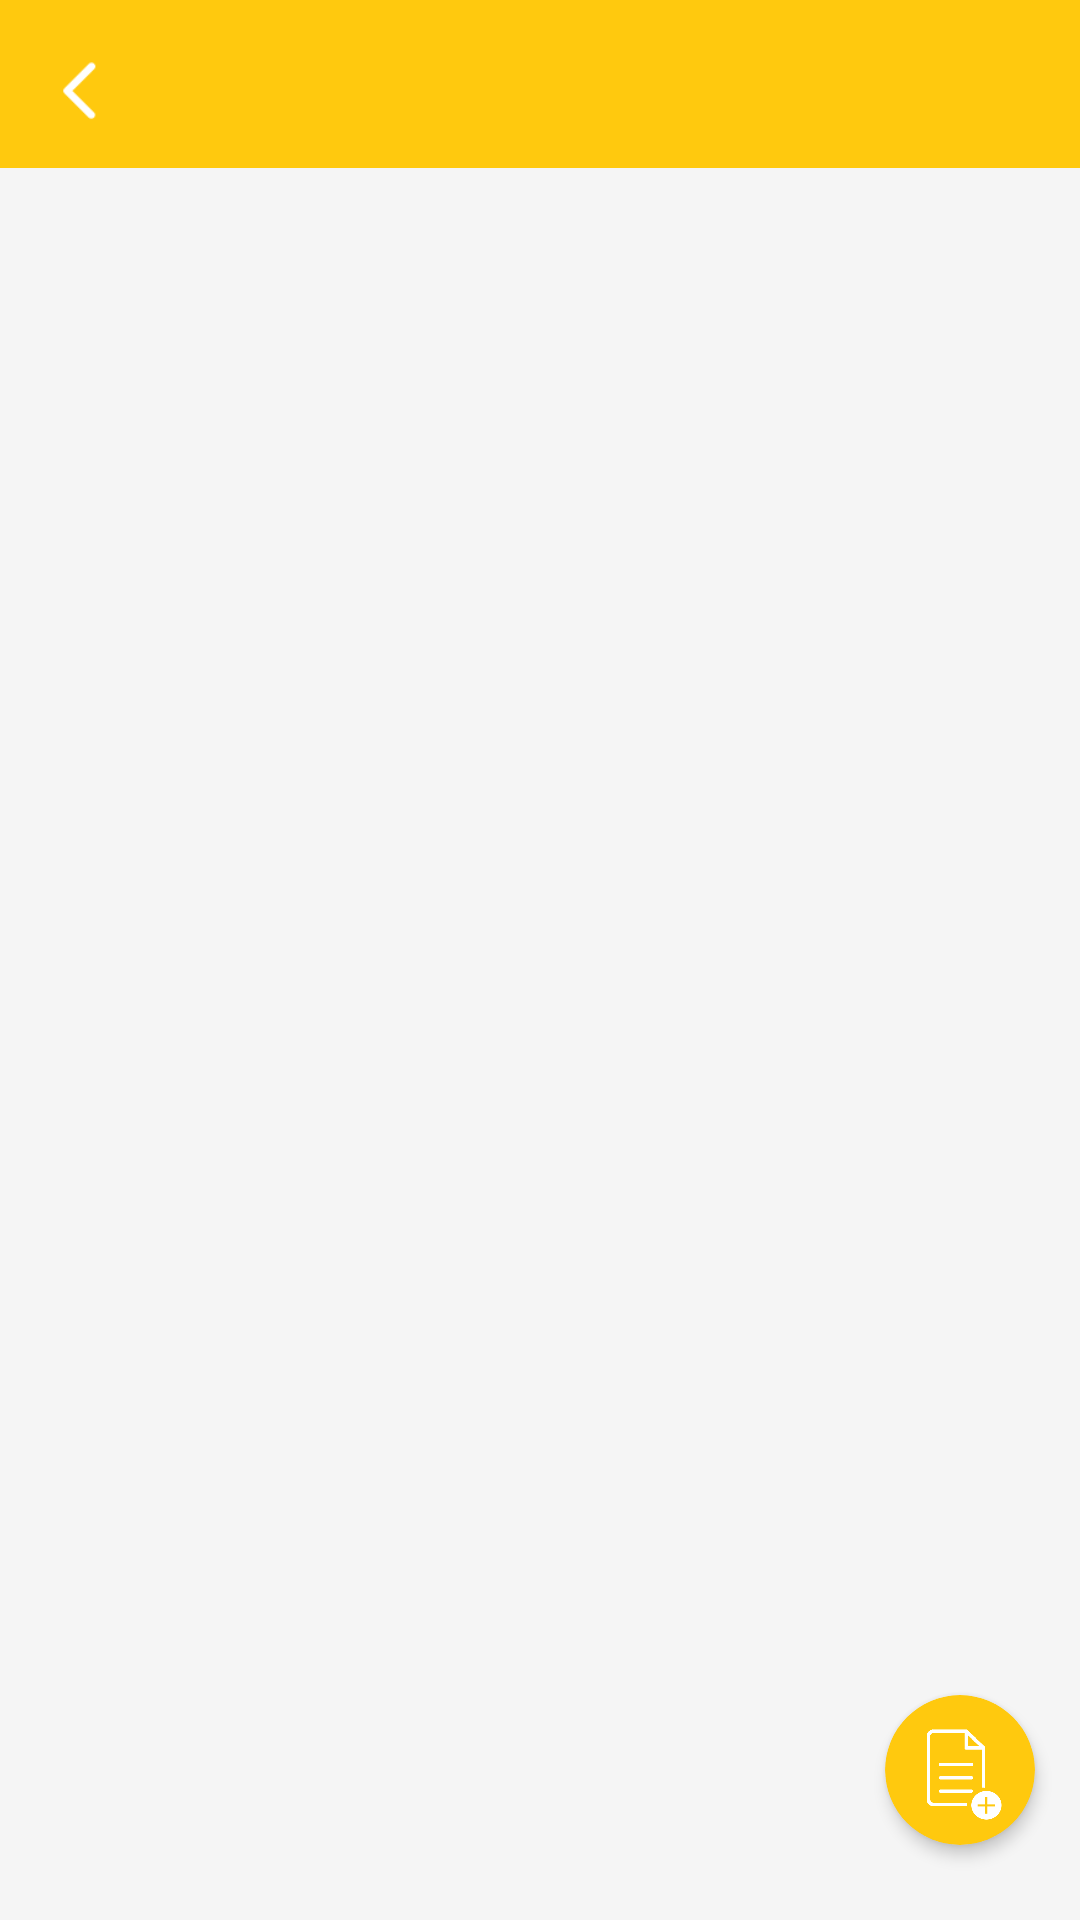

Where to tap for icons on this 1080×1920 app screen, as (x=x, y=y):
papper: (x=964, y=1774)
